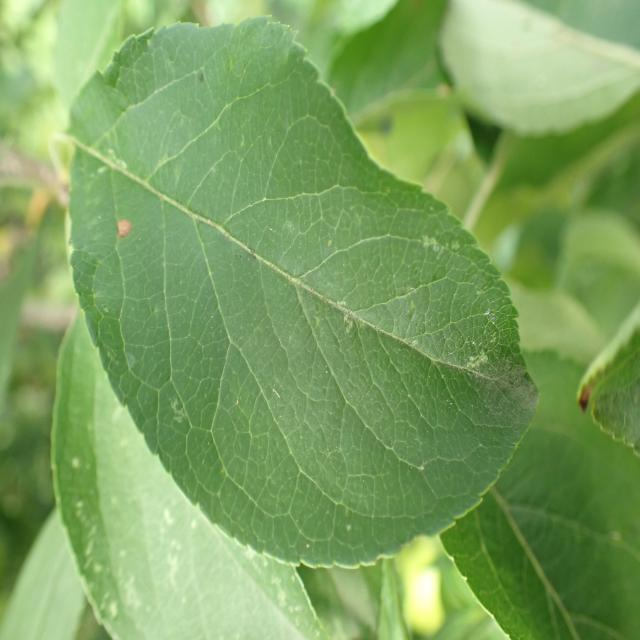Black Rot: (96, 199, 162, 260)
